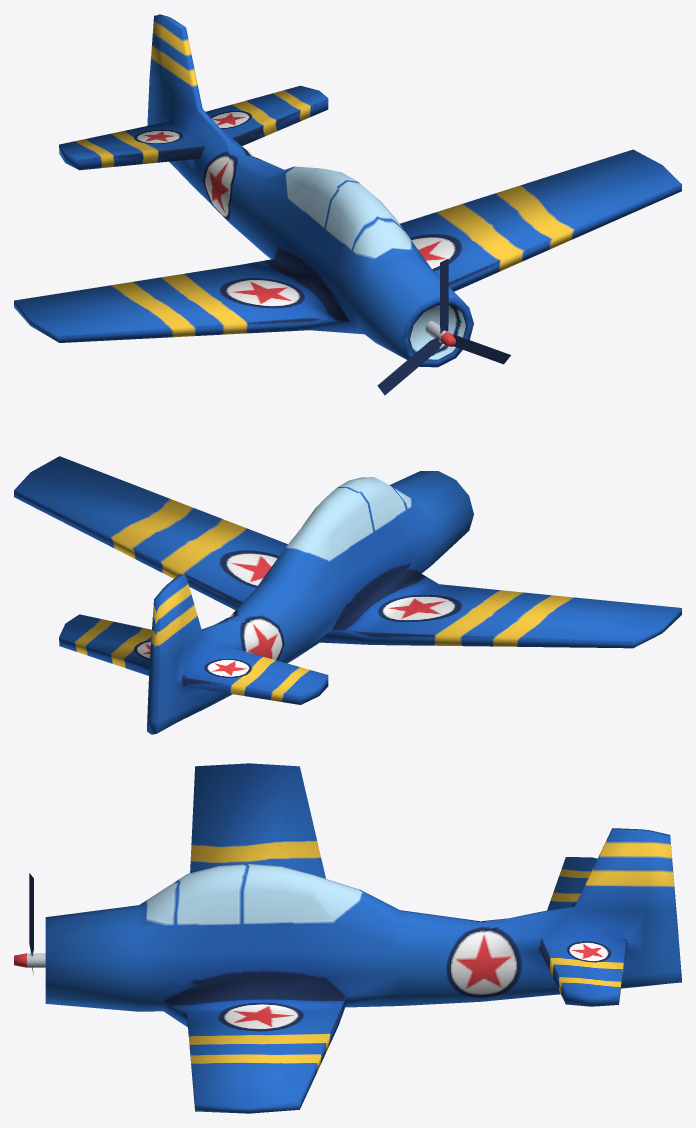
The model's file is fighter.glb.
3 views of the same model, one above another, from view 1: azimuth 30°, elevation 25°; view 2: azimuth 150°, elevation 25°; view 3: azimuth 270°, elevation 25° (orthographic). The views are drawn at different scales.
Parts seen in each view (by area): view 1: Fighter; view 2: Fighter; view 3: Fighter.
Boxes of the visible parts, bbox=[...] form: Fighter: bbox=[14, 14, 681, 395]; Fighter: bbox=[14, 456, 681, 734]; Fighter: bbox=[14, 763, 681, 1113].
Bounding box in the file's own units: 7.83 × 1.91 × 6.45.
1 material, 1 textured.
